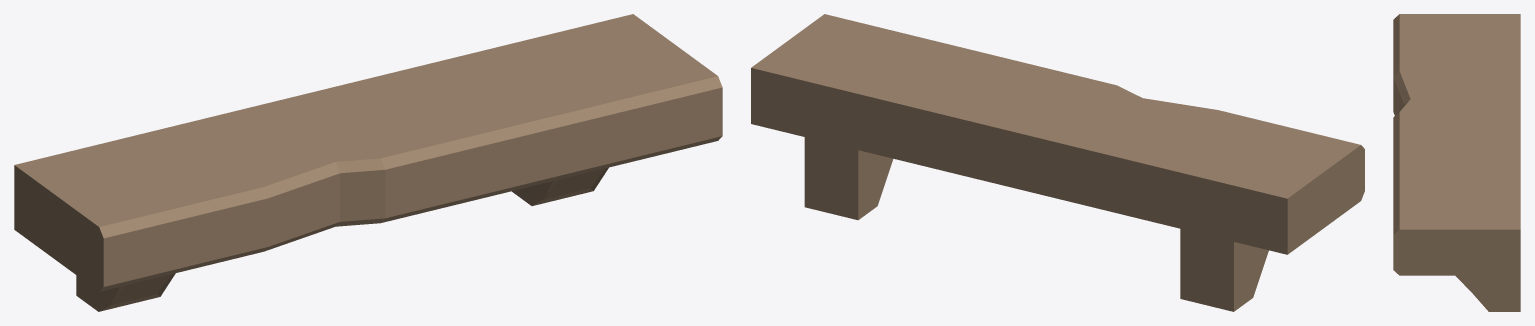
3 renders of one model, left to right at view 1: azimuth 30°, elevation 25°; view 2: azimuth 150°, elevation 25°; view 3: azimuth 270°, elevation 25°, orthographic. The views are drawn at different scales.
Visible parts, largest first — view 1: model; view 2: model; view 3: model.
Boxes of the visible parts, box(x1,y1,x2,y2) form: model: box(14, 14, 722, 311); model: box(751, 14, 1364, 311); model: box(1393, 14, 1520, 311).
Bounding box in the file's own units: 1.4 × 0.315 × 0.35.
